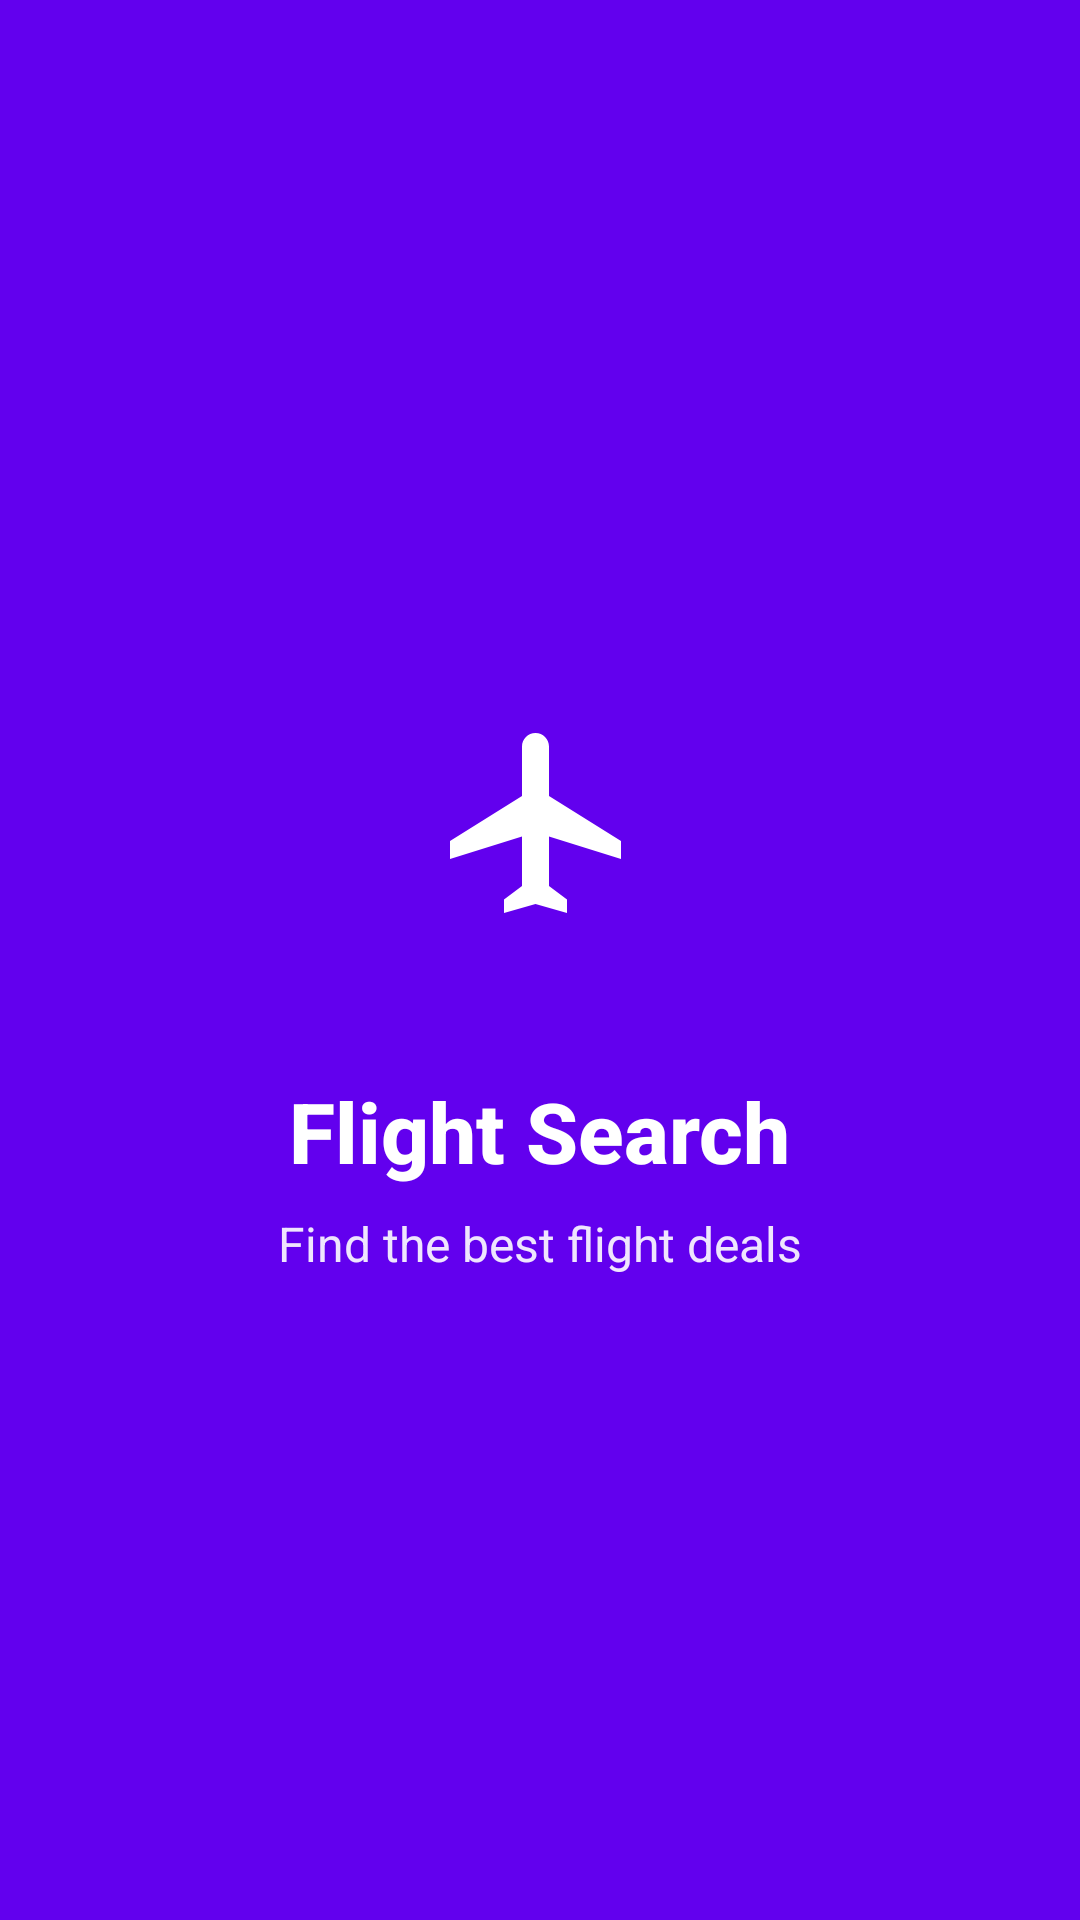

Screen size 1080 × 1920. Icon name, then its box in pixels as [x1=x1, y1=y1, x2=x2, y2=y2]:
plane: [x1=450, y1=733, x2=621, y2=913]
